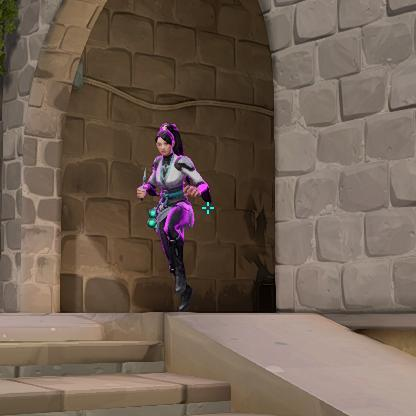enemyBody: (163, 159, 180, 198)
enemyHead: (161, 136, 169, 153)
